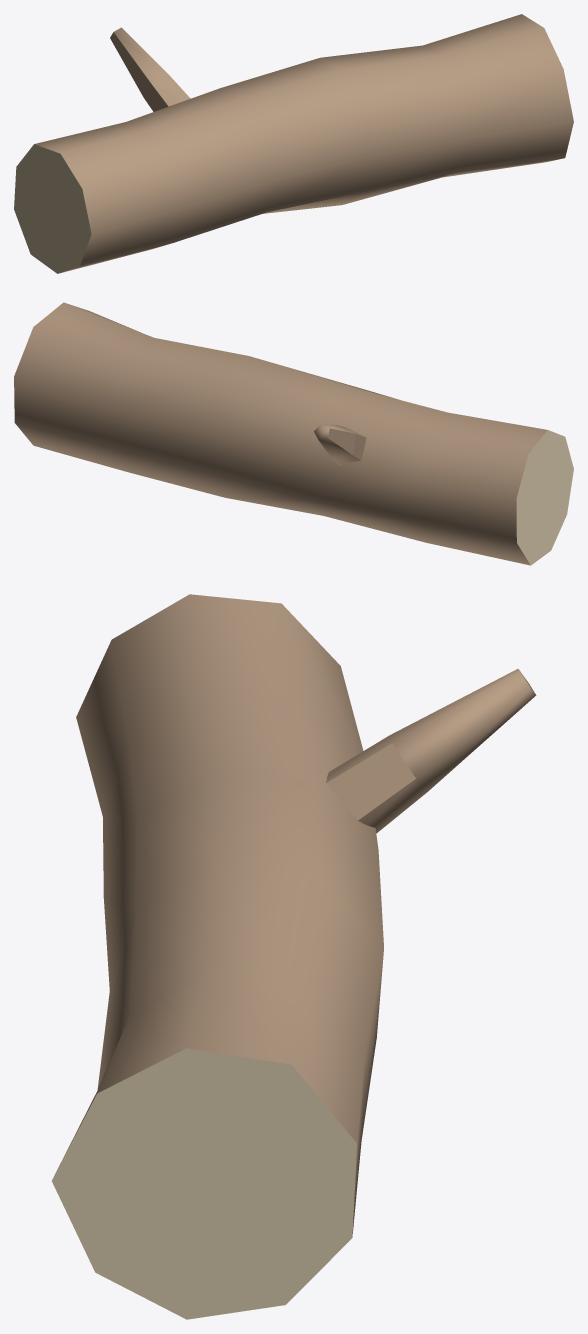
The model's file is log_A.glb.
3 views of the same model, one above another, from view 1: azimuth 30°, elevation 25°; view 2: azimuth 150°, elevation 25°; view 3: azimuth 270°, elevation 25° (orthographic). The views are drawn at different scales.
Parts seen in each view (by area): view 1: log_A; view 2: log_A; view 3: log_A.
Part boxes in pixels (left/top/right/bottom): log_A: left=14, top=14, right=573, bottom=273; log_A: left=14, top=302, right=573, bottom=565; log_A: left=52, top=594, right=536, bottom=1319.
Size of the model in its own units: 0.7155 by 0.2166 by 0.3016.
